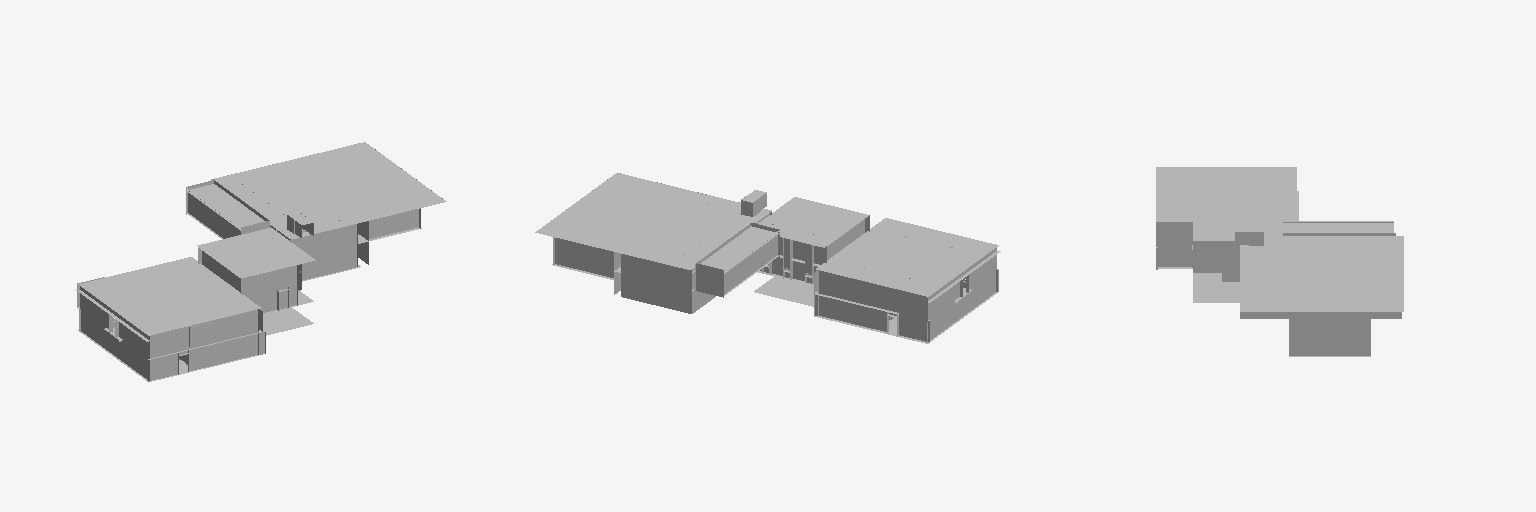
Rendered from 173_OPT.obj.
3 renders of one model, left to right at view 1: azimuth 30°, elevation 25°; view 2: azimuth 150°, elevation 25°; view 3: azimuth 270°, elevation 25°, orthographic.
Parts seen in each view (by area): view 1: default; view 2: default; view 3: default.
Part boxes in pixels (bbox=[...]): default: bbox=[76, 142, 446, 381]; default: bbox=[535, 173, 1000, 343]; default: bbox=[1156, 167, 1403, 356].
Bounding box in the file's own units: 61.76 × 14.28 × 38.72.